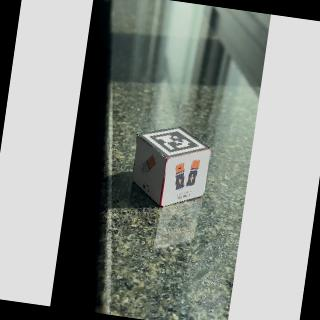Used_Battery: (161, 145, 214, 211)
